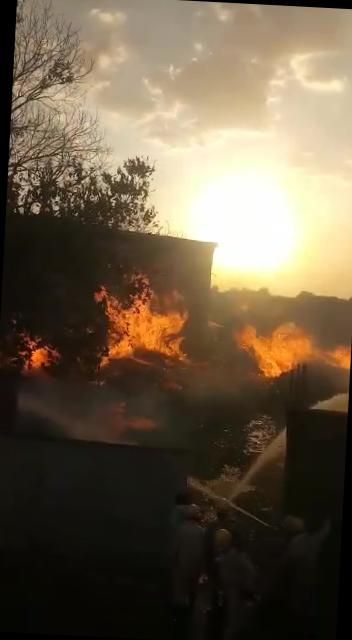Fire: (89, 269, 193, 371), (230, 316, 352, 382)
